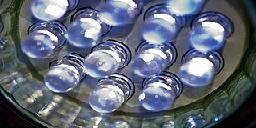LED: (131, 44, 170, 79), (19, 27, 58, 61), (82, 51, 118, 81), (186, 22, 224, 49), (63, 18, 102, 44)
